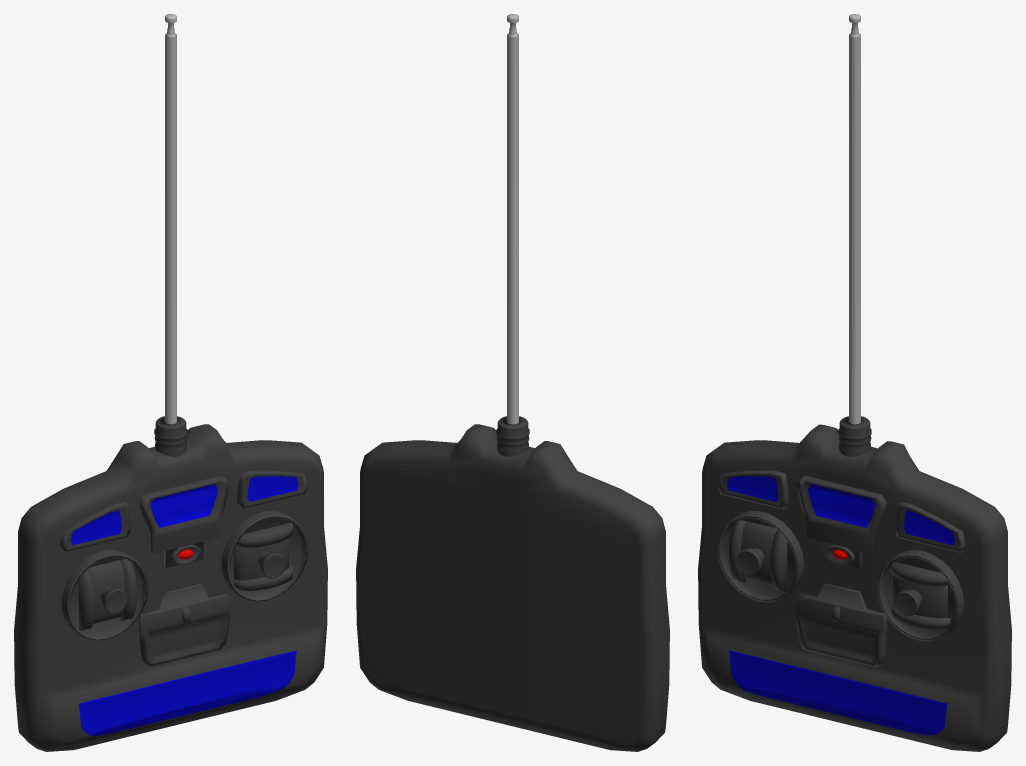
Rendered from Controller_on.fbx.
3 views of the same model, side by side, from view 1: azimuth 30°, elevation 25°; view 2: azimuth 150°, elevation 25°; view 3: azimuth 330°, elevation 25° (orthographic).
Parts seen in each view (by area): view 1: Controller_on; view 2: Controller_on; view 3: Controller_on.
Part boxes in pixels (x1,y1,x2,y2): Controller_on: [14, 14, 327, 751]; Controller_on: [356, 14, 669, 751]; Controller_on: [698, 14, 1011, 751].
Size of the model in its own units: 15.08 by 33.55 by 3.25.
